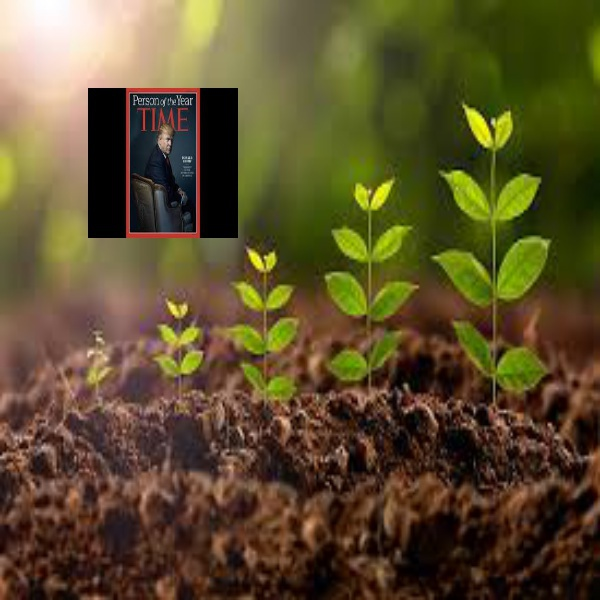time_cover: (120, 87, 210, 240)
